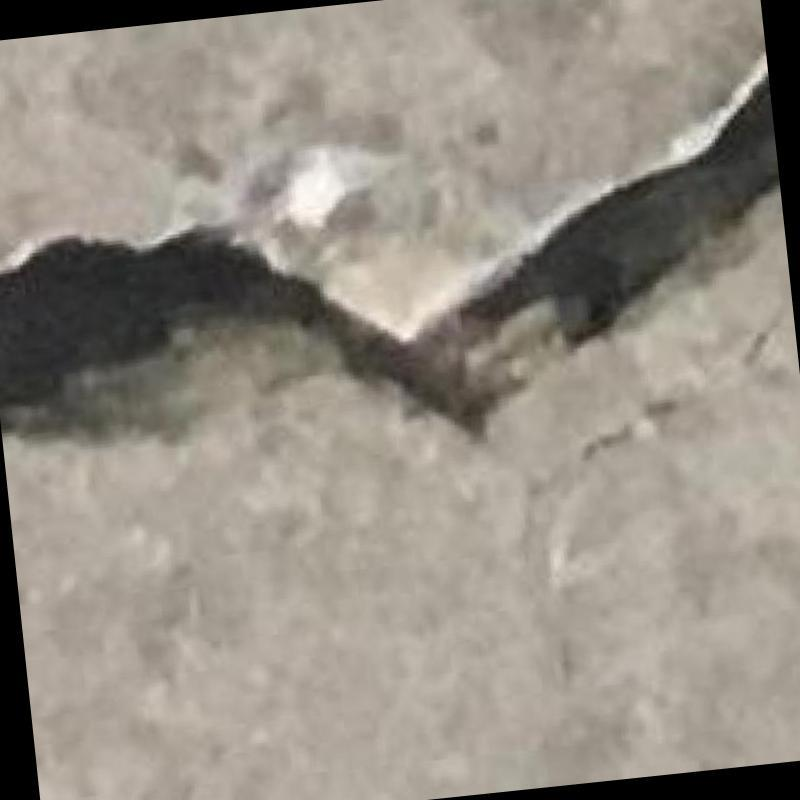pothole: (0, 67, 778, 432)
